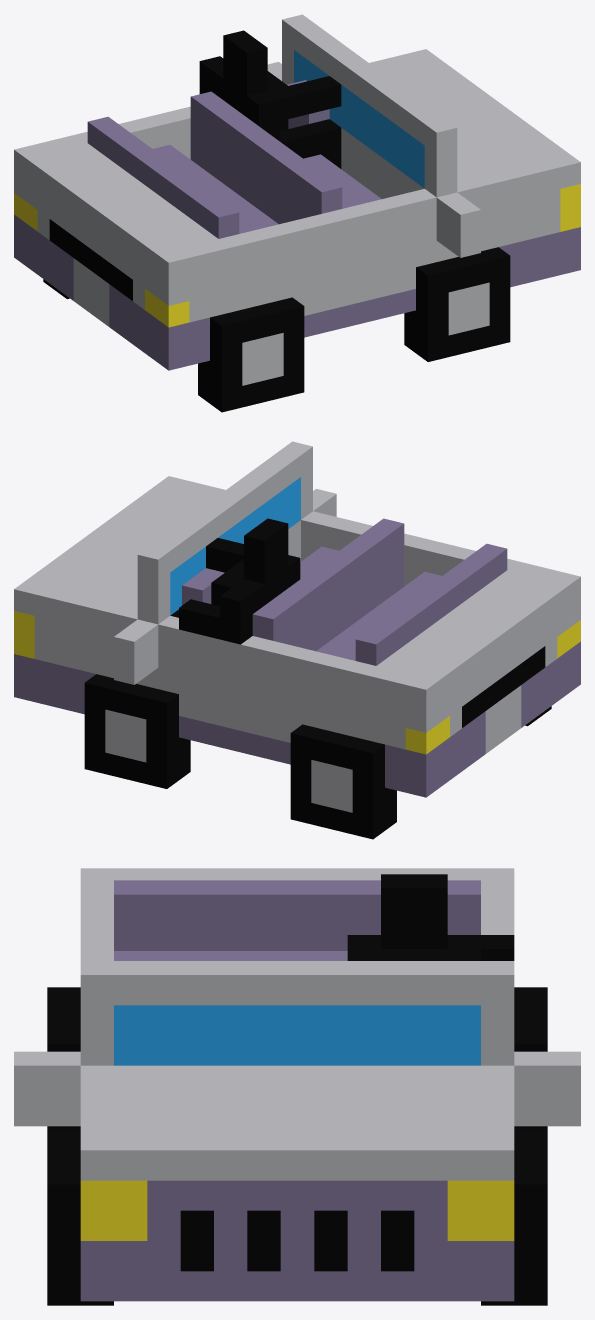
File: convertible_d.obj
3 views of the same model, one above another, from view 1: azimuth 30°, elevation 25°; view 2: azimuth 150°, elevation 25°; view 3: azimuth 270°, elevation 25° (orthographic). The views are drawn at different scales.
Bounding box in the file's own units: 2 × 1.1 × 1.7.
Materials: 1 (1 with a texture image).
